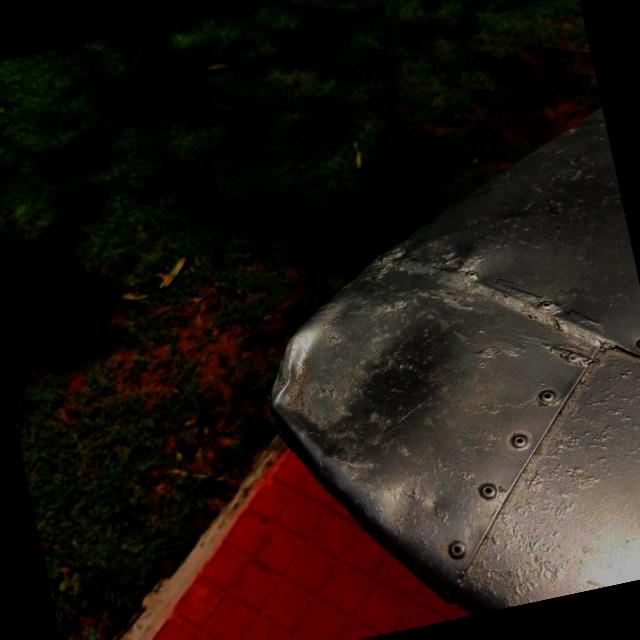dent: (226, 274, 485, 506)
